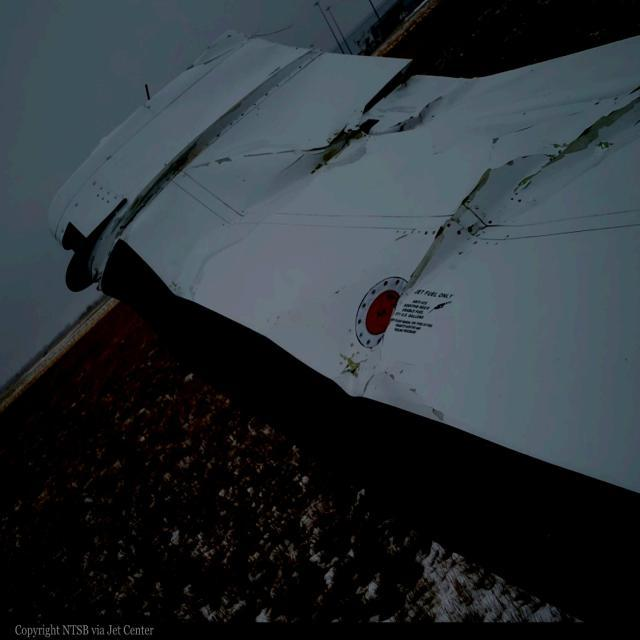crack: (313, 63, 446, 179), (515, 98, 640, 195), (406, 166, 498, 290)
